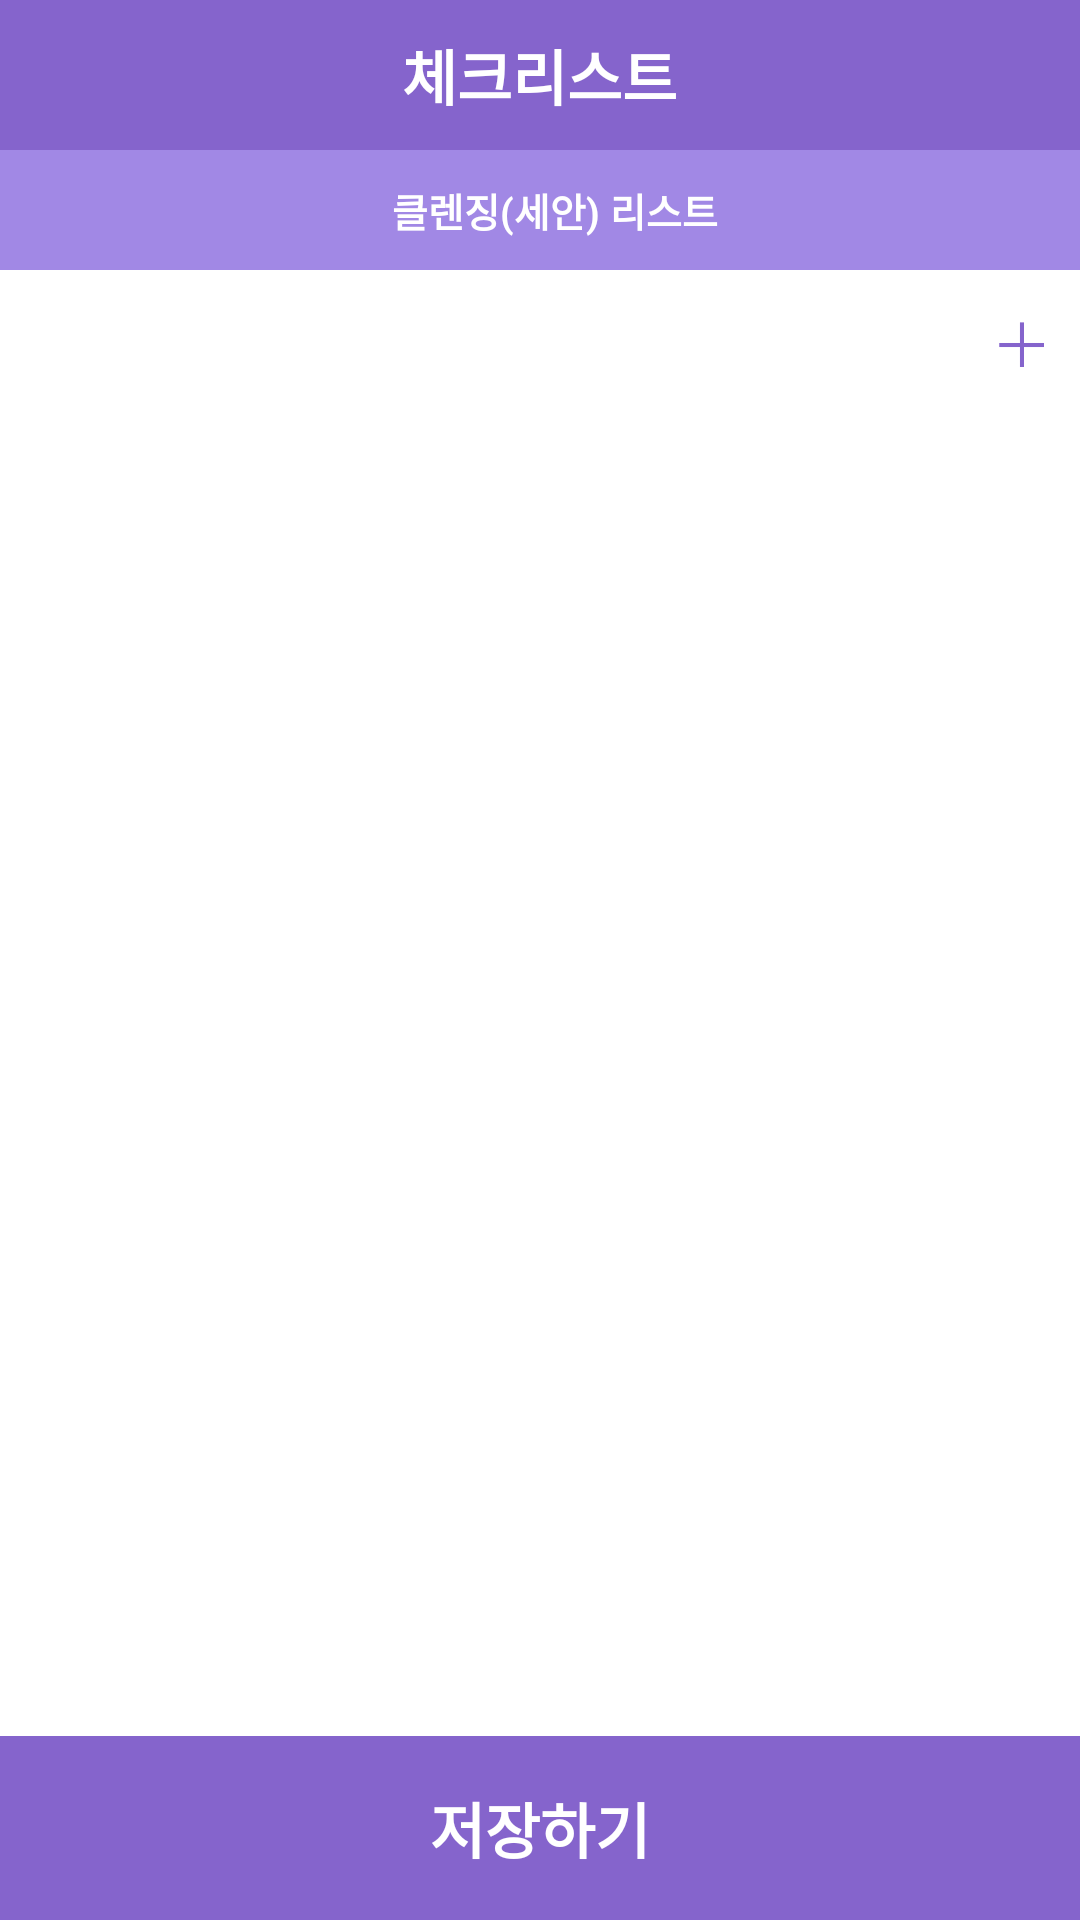

Icons on this 1080 × 1920 Android screen, each with its box as (x1, y1, x2, y2):
add checklist: (999, 322, 1044, 367)
